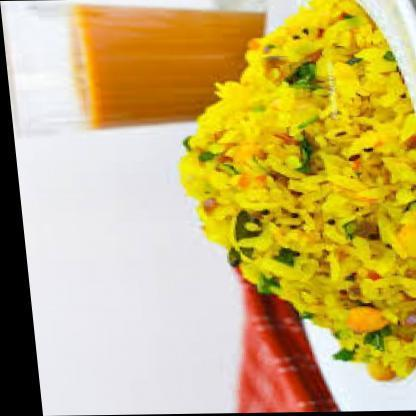poha: (159, 0, 416, 384)
